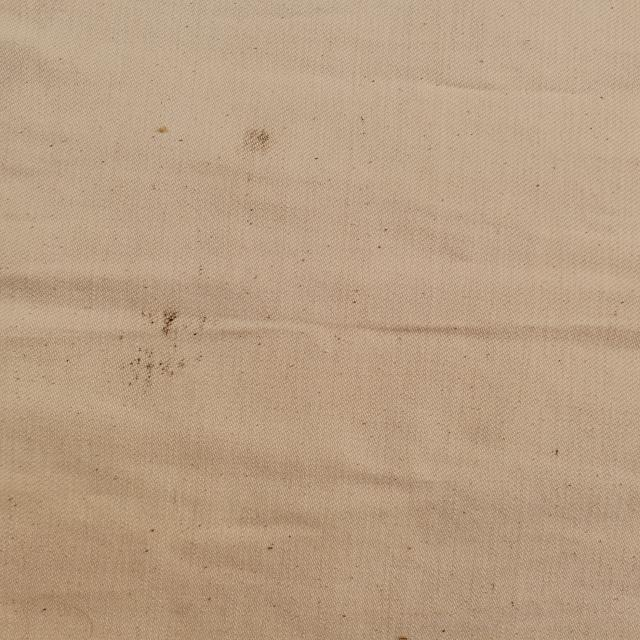taaaches: (107, 309, 227, 397), (232, 122, 280, 162), (150, 122, 173, 138)
